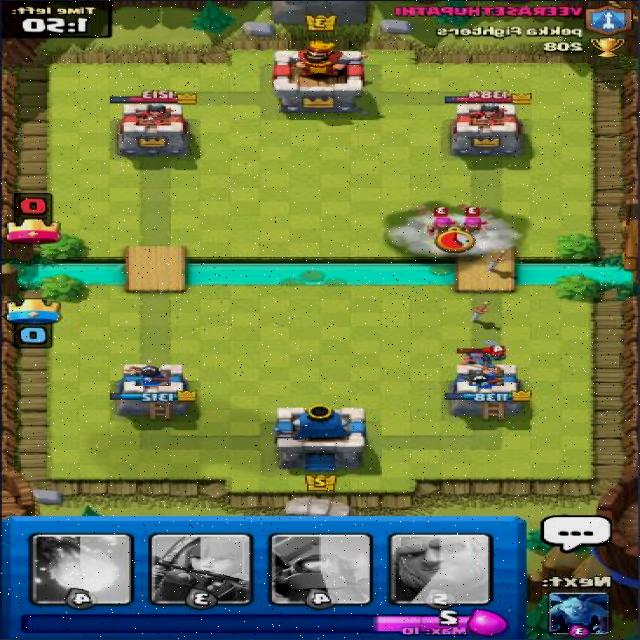Enemy-Archer: (422, 204, 462, 241), (455, 205, 492, 238)
Enemy-MiniPEKKA: (452, 345, 509, 378)
